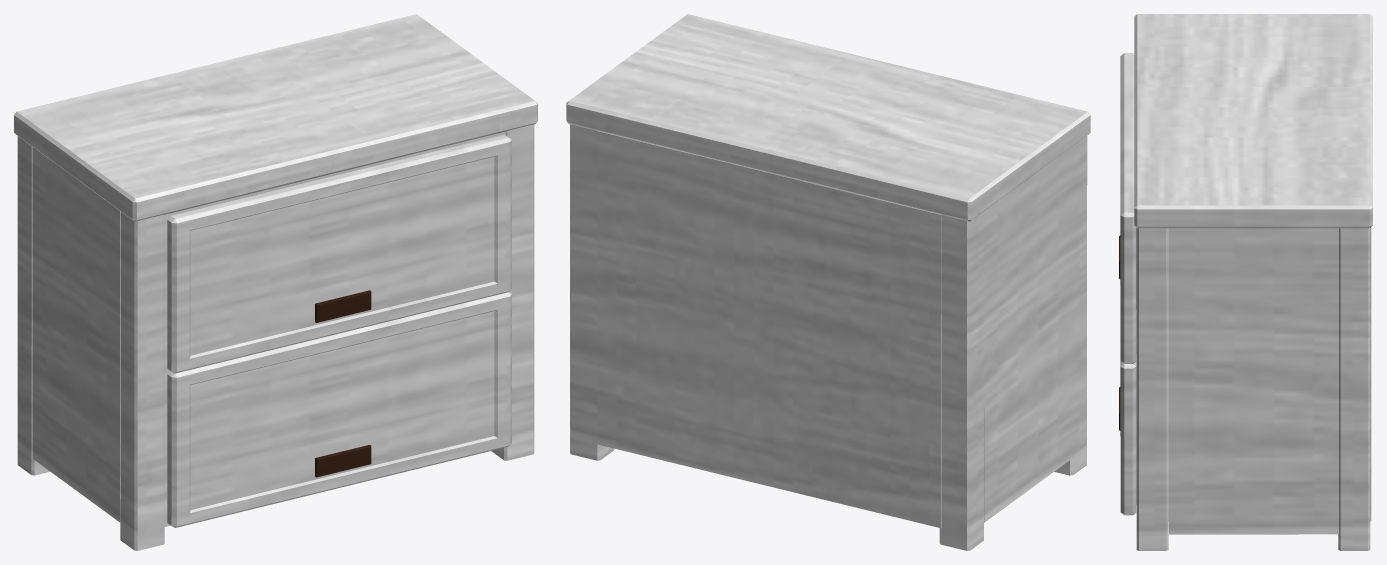
Rendered from nightstand.glb.
3 renders of one model, left to right at view 1: azimuth 30°, elevation 25°; view 2: azimuth 150°, elevation 25°; view 3: azimuth 270°, elevation 25°, orthographic. The views are drawn at different scales.
Visible parts, largest first — view 1: side_table_306, side_table_drawer_306_2, side_table_drawer_306_1; view 2: side_table_306; view 3: side_table_306, side_table_drawer_306_2, side_table_drawer_306_1.
Boxes of the visible parts, x1,y1,x2,y2 form: side_table_306: (14, 14, 537, 550); side_table_drawer_306_2: (167, 134, 511, 373); side_table_drawer_306_1: (167, 292, 511, 527); side_table_306: (566, 14, 1090, 550); side_table_306: (1134, 14, 1372, 550); side_table_drawer_306_2: (1119, 53, 1136, 363); side_table_drawer_306_1: (1119, 285, 1136, 515).
Size of the model in its own units: 0.6152 by 0.5121 by 0.3404.
Materials: 2 (2 with a texture image).
